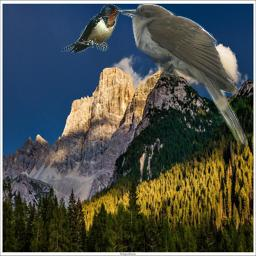Cuckoo: (121, 4, 248, 149)
Swallow: (60, 4, 122, 53)
